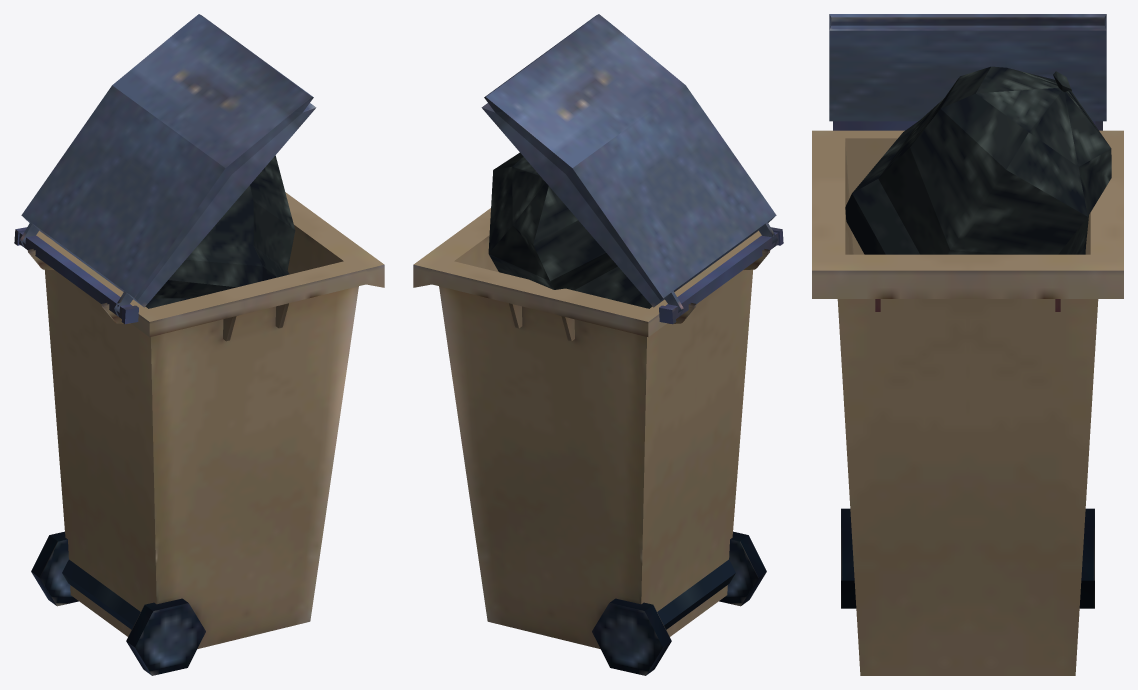
File: Urban_TrashCanOverflowing_Model.fbx
3 views of the same model, side by side, from view 1: azimuth 30°, elevation 25°; view 2: azimuth 150°, elevation 25°; view 3: azimuth 270°, elevation 25° (orthographic). The views are drawn at different scales.
Parts seen in each view (by area): view 1: Urban_TrashCanOverflowing_Mesh; view 2: Urban_TrashCanOverflowing_Mesh; view 3: Urban_TrashCanOverflowing_Mesh.
Boxes of the visible parts, x1=… form: Urban_TrashCanOverflowing_Mesh: x1=14, y1=14, x2=384, y2=675; Urban_TrashCanOverflowing_Mesh: x1=413, y1=14, x2=783, y2=675; Urban_TrashCanOverflowing_Mesh: x1=812, y1=14, x2=1123, y2=675.
Size of the model in its own units: 0.9 by 1.84 by 0.7794.
